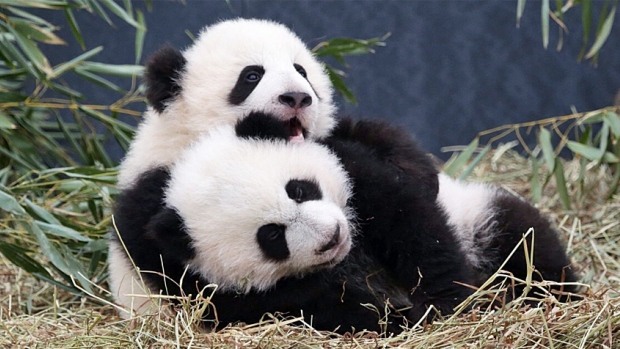panda: (104, 5, 352, 332), (186, 125, 588, 325)
